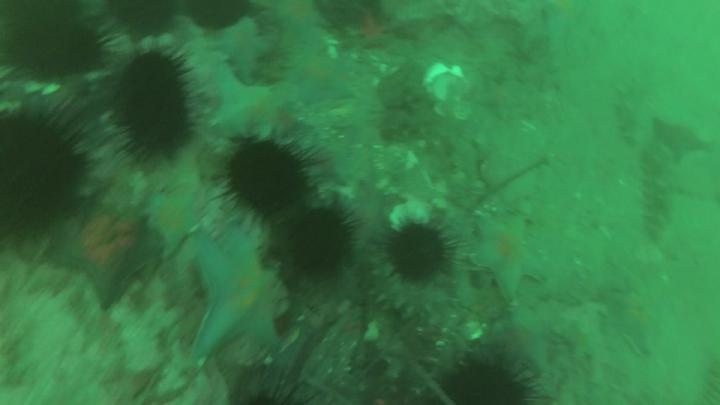echinus: (1, 119, 79, 243), (121, 55, 194, 156), (229, 139, 314, 217), (16, 15, 104, 81), (438, 364, 530, 405), (387, 224, 449, 282), (294, 209, 352, 266)
holothurian: (370, 263, 445, 318), (642, 140, 678, 240), (618, 72, 655, 148)
scallop: (24, 83, 45, 92), (43, 86, 63, 94)
starfish: (187, 231, 276, 366), (57, 205, 159, 305), (471, 214, 549, 295), (602, 284, 659, 360), (146, 188, 201, 259), (291, 52, 356, 107), (218, 20, 271, 83), (272, 1, 330, 35)
